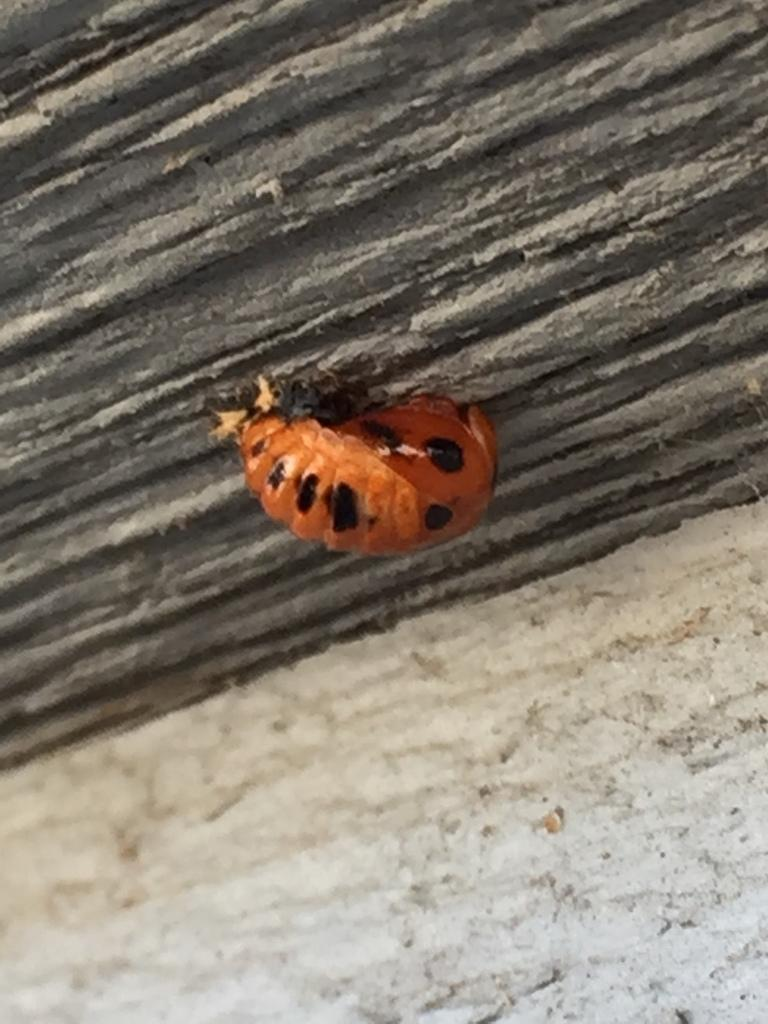ladybug: (206, 369, 509, 564)
